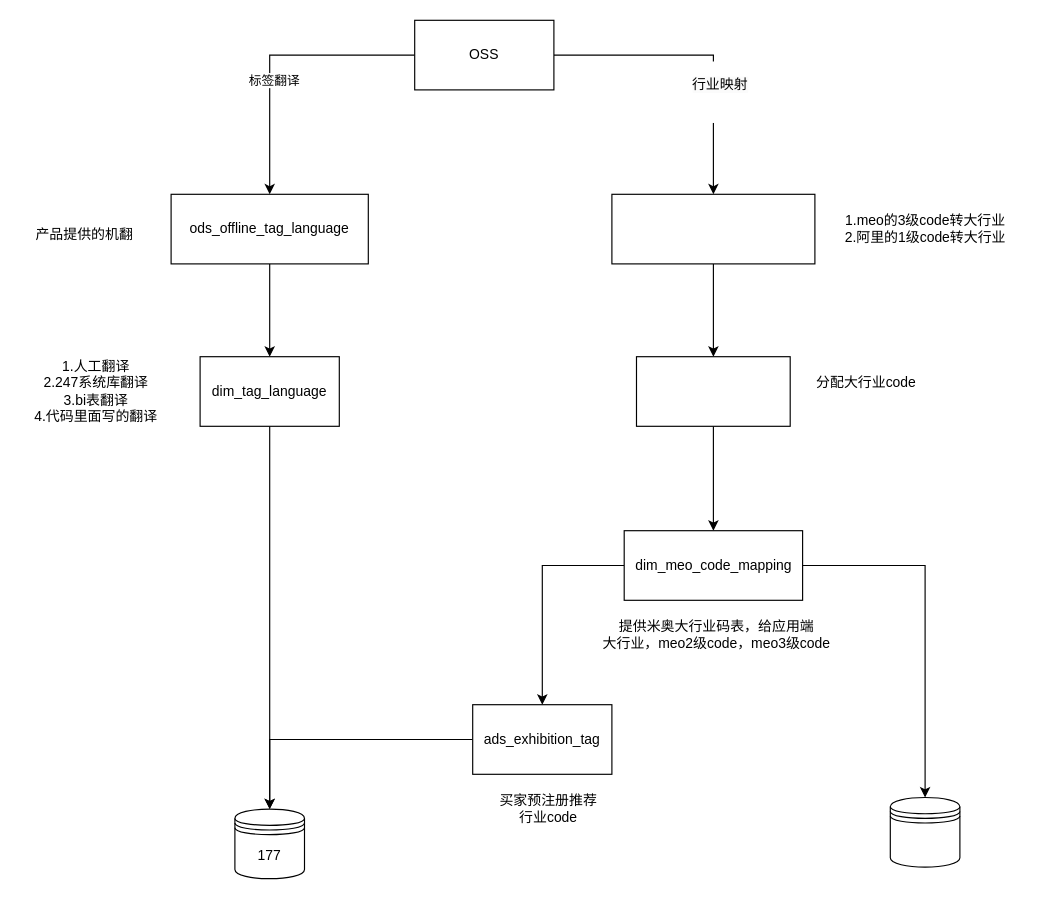
Image size: 1037x899. Some labels were removed from this diagram. The centre of each missing label's shape, as x and y in pixels:
"dim_big_industry" belongs at (712,391).
"ods_offline_big_industry" belongs at (713,228).
"探客" belongs at (924,831).
